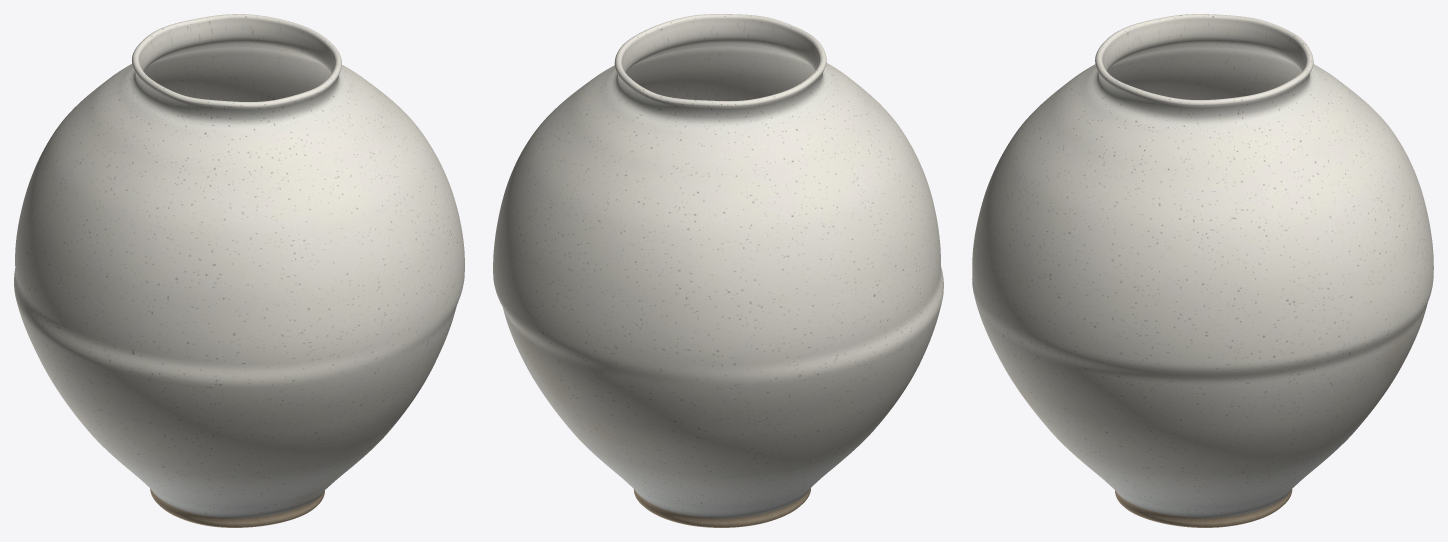
File: moonjar.glb
The picture shows the model from 3 angles, left to right: view 1: azimuth 30°, elevation 25°; view 2: azimuth 150°, elevation 25°; view 3: azimuth 270°, elevation 25°; orthographic projection.
Visible parts, largest first — view 1: moonjar; view 2: moonjar; view 3: moonjar.
Boxes of the visible parts, <box> form: moonjar: <box>14,14,464,527</box>; moonjar: <box>493,14,943,527</box>; moonjar: <box>972,14,1433,527</box>.
Size of the model in its own units: 0.4217 by 0.4503 by 0.4321.
1 material, 1 textured.
